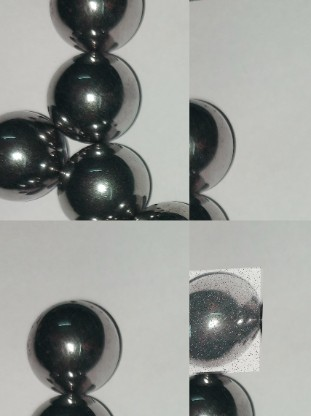ironball: (24, 301, 116, 395), (45, 53, 139, 137), (190, 269, 262, 377), (57, 143, 149, 221), (0, 106, 67, 204), (47, 0, 149, 53), (189, 93, 234, 198), (190, 374, 275, 415)
